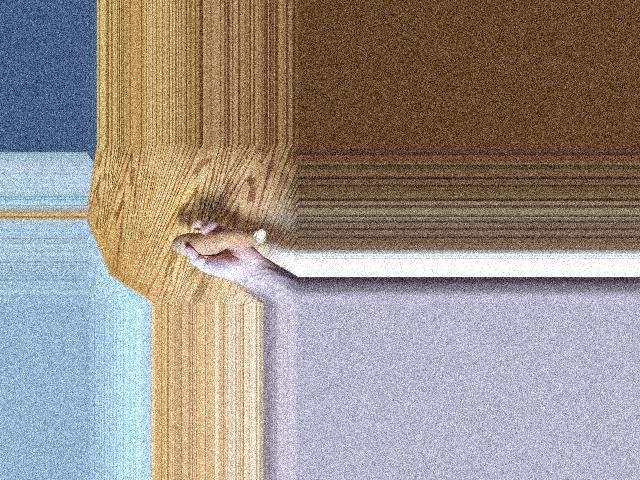sweet_potato: (178, 227, 258, 257)
